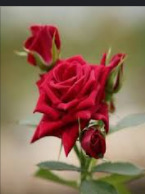RedRose: (26, 54, 124, 148)
